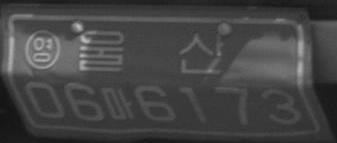0: (23, 79, 65, 119)
1: (177, 84, 212, 126)
3: (261, 87, 301, 126)
6: (135, 83, 176, 123), (66, 81, 104, 121)
7: (213, 84, 249, 126)
마: (104, 86, 134, 119)
영: (25, 29, 60, 70)
울산_D: (77, 29, 224, 74)
